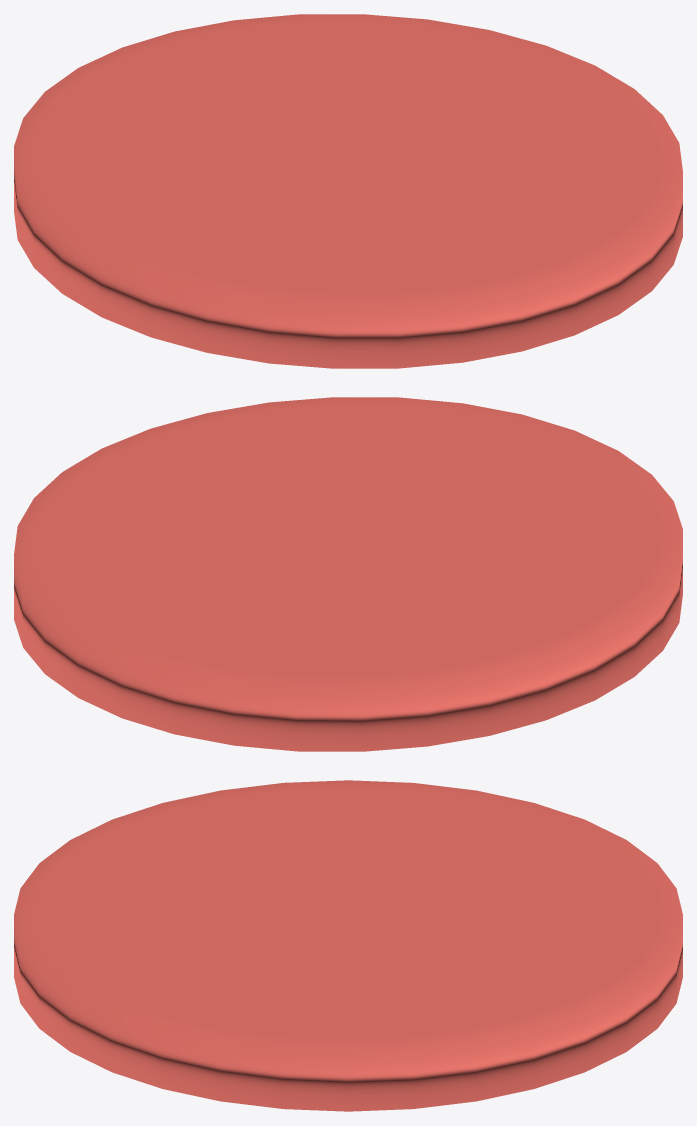
The model's file is tomate.glb.
3 renders of one model, top to bottom at view 1: azimuth 30°, elevation 25°; view 2: azimuth 150°, elevation 25°; view 3: azimuth 270°, elevation 25°, orthographic. The views are drawn at different scales.
Parts seen in each view (by area): view 1: Cylinder.002; view 2: Cylinder.002; view 3: Cylinder.002.
Boxes of the visible parts, x1,y1,x2,y2 form: Cylinder.002: (14,14,682,368); Cylinder.002: (14,397,682,751); Cylinder.002: (14,780,682,1111).
Size of the model in its own units: 1.6 by 0.1744 by 1.68.
